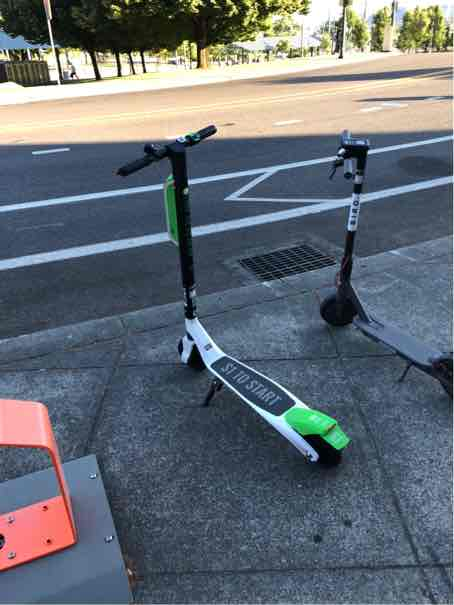scooter: (111, 114, 357, 468)
